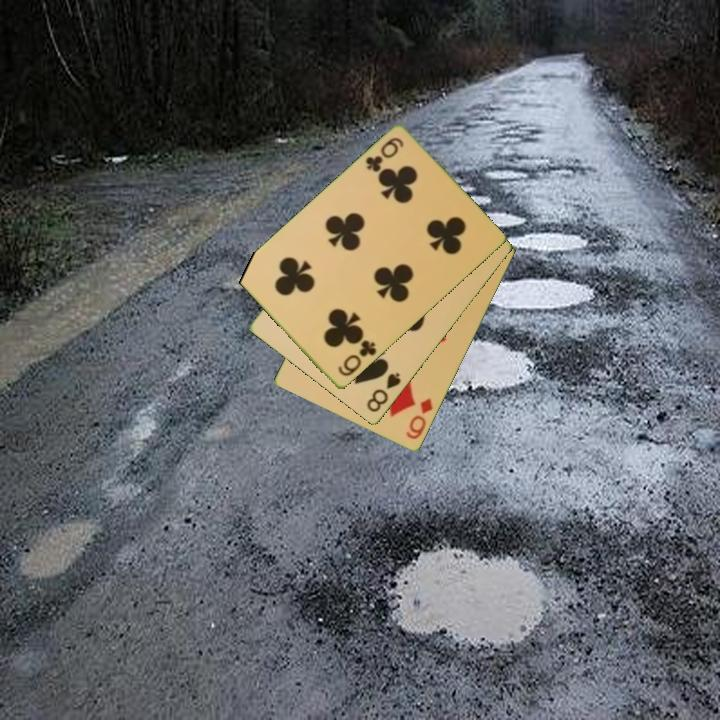6c: (334, 337, 379, 380), (362, 134, 407, 175)
6d: (402, 395, 436, 443)
8s: (363, 369, 404, 416)
